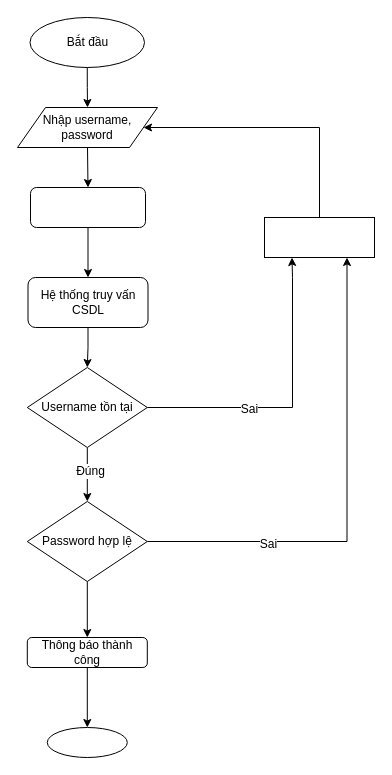
The diagram is 392 pixels wide and 775 high, and some of its shapes have lost their labels. Here are the shapes that lost their labels. From the top down, the box of each, then its label:
(30, 186, 146, 228): Chọn Login
(264, 216, 374, 258): Thông báo sai thông tin
(46, 726, 127, 758): Kết thúc
